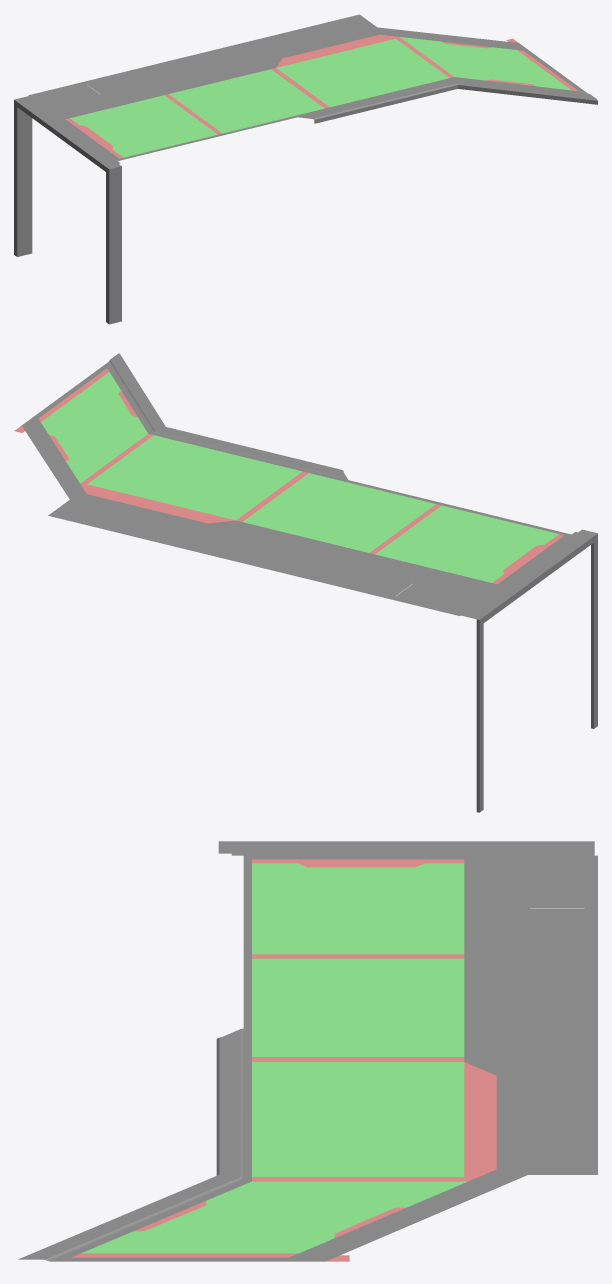
File: S_Envi_FZFBase_Ground_01m.gltf
3 renders of one model, top to bottom at view 1: azimuth 30°, elevation 25°; view 2: azimuth 150°, elevation 25°; view 3: azimuth 270°, elevation 25°, orthographic. The views are drawn at different scales.
Visible parts, largest first — view 1: S_Envi_FZFBase_Ground_01m; view 2: S_Envi_FZFBase_Ground_01m; view 3: S_Envi_FZFBase_Ground_01m.
Boxes of the visible parts, box(x1,y1,x2,y2) form: S_Envi_FZFBase_Ground_01m: box(14, 14, 597, 324); S_Envi_FZFBase_Ground_01m: box(14, 353, 597, 812); S_Envi_FZFBase_Ground_01m: box(18, 841, 597, 1261).
Bounding box in the file's own units: 14.97 × 5.11 × 8.79.
